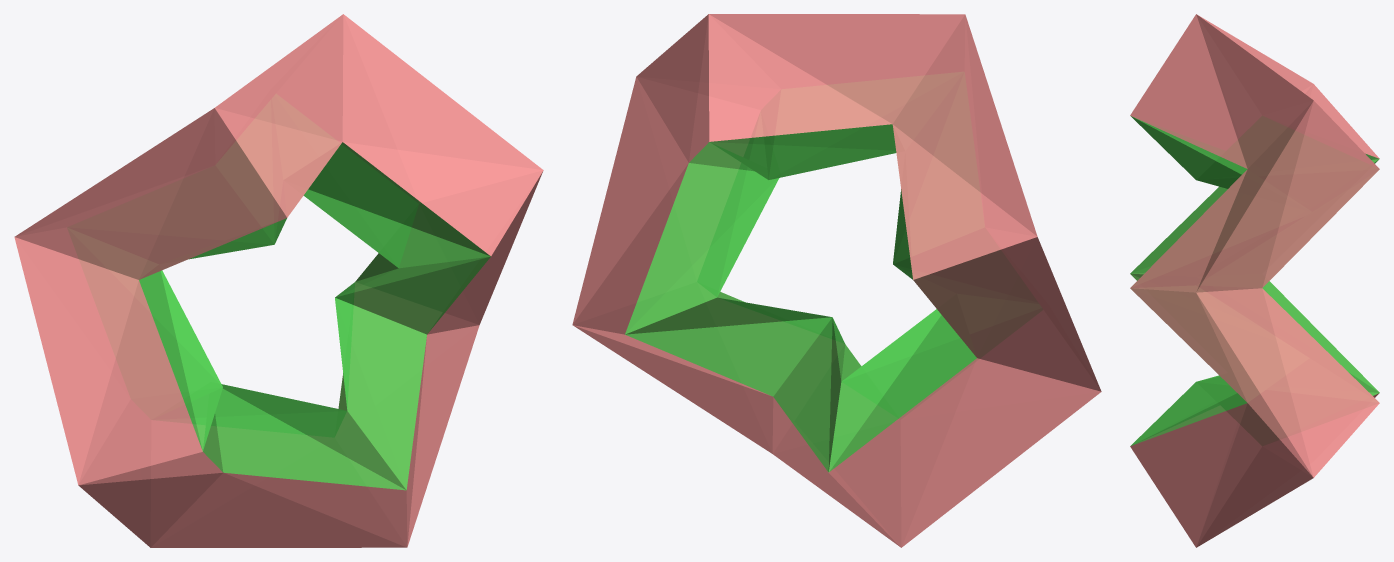
The model's file is Regular8TetragonalToroidSin.obj.
The picture shows the model from 3 angles, left to right: view 1: azimuth 30°, elevation 25°; view 2: azimuth 150°, elevation 25°; view 3: azimuth 270°, elevation 25°; orthographic projection. The views are drawn at different scales.
Bounding box in the file's own units: 2.61 × 2.61 × 1.32.
